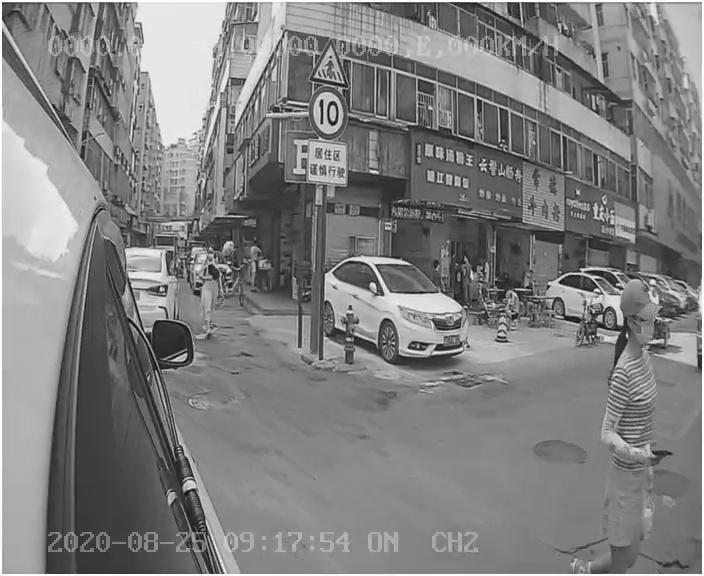person: (561, 283, 685, 570)
